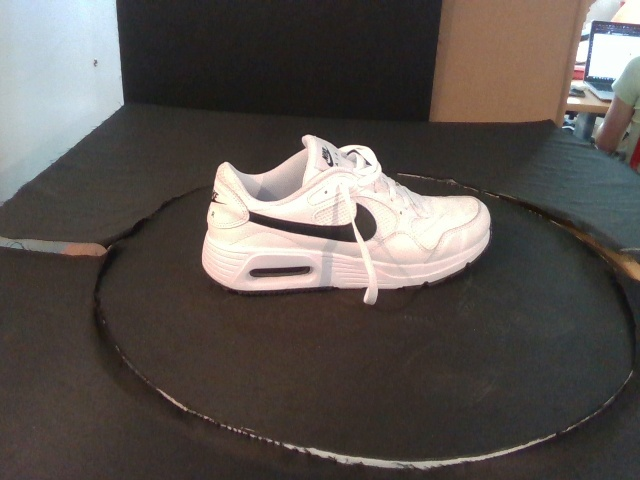shoe: (200, 133, 491, 298)
